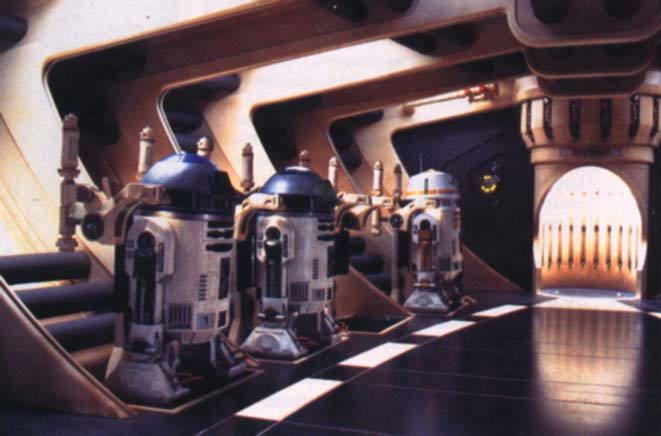r2d2: (113, 153, 247, 403)
